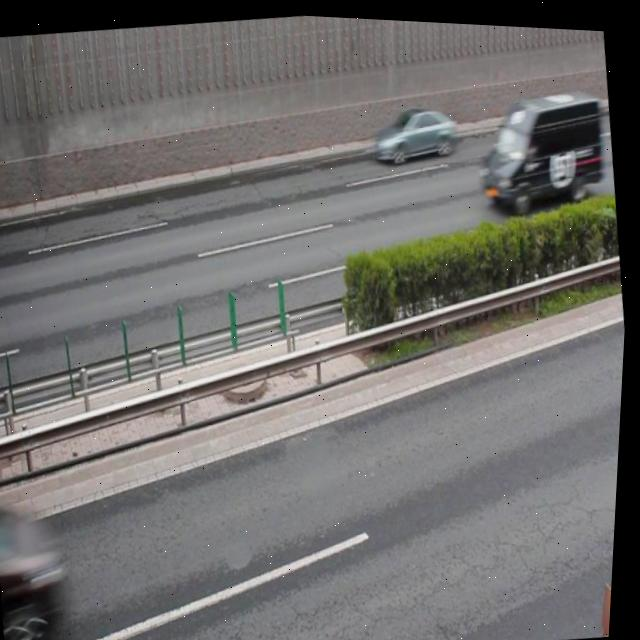car: (0, 489, 78, 640), (367, 95, 460, 161)
truck: (470, 78, 613, 214)
